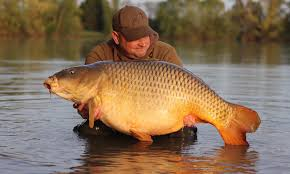carp: (43, 58, 263, 148)
